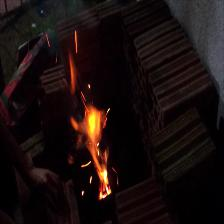fire: (58, 53, 139, 211)
